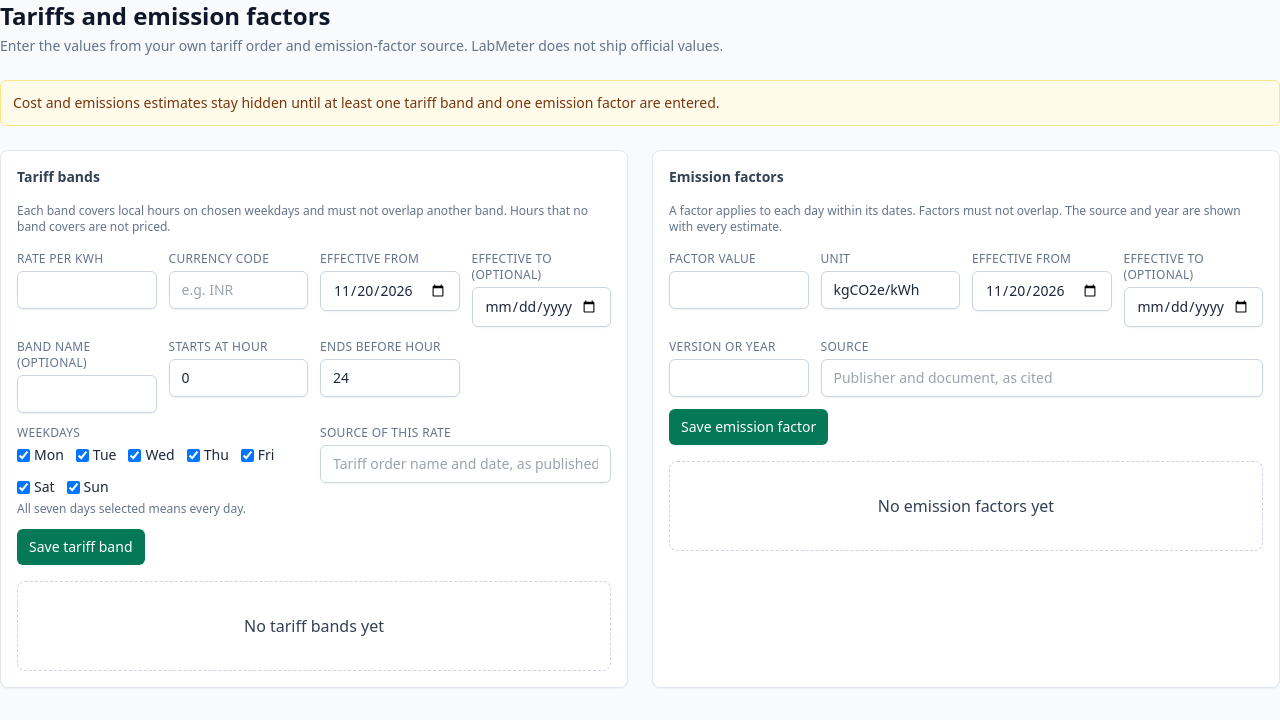
Test: Tariffs and factors page › shows the overlap refusal from the server
In the number field labelled "Rate per kWh": point(87, 290) [17,271,156,309], type "12"
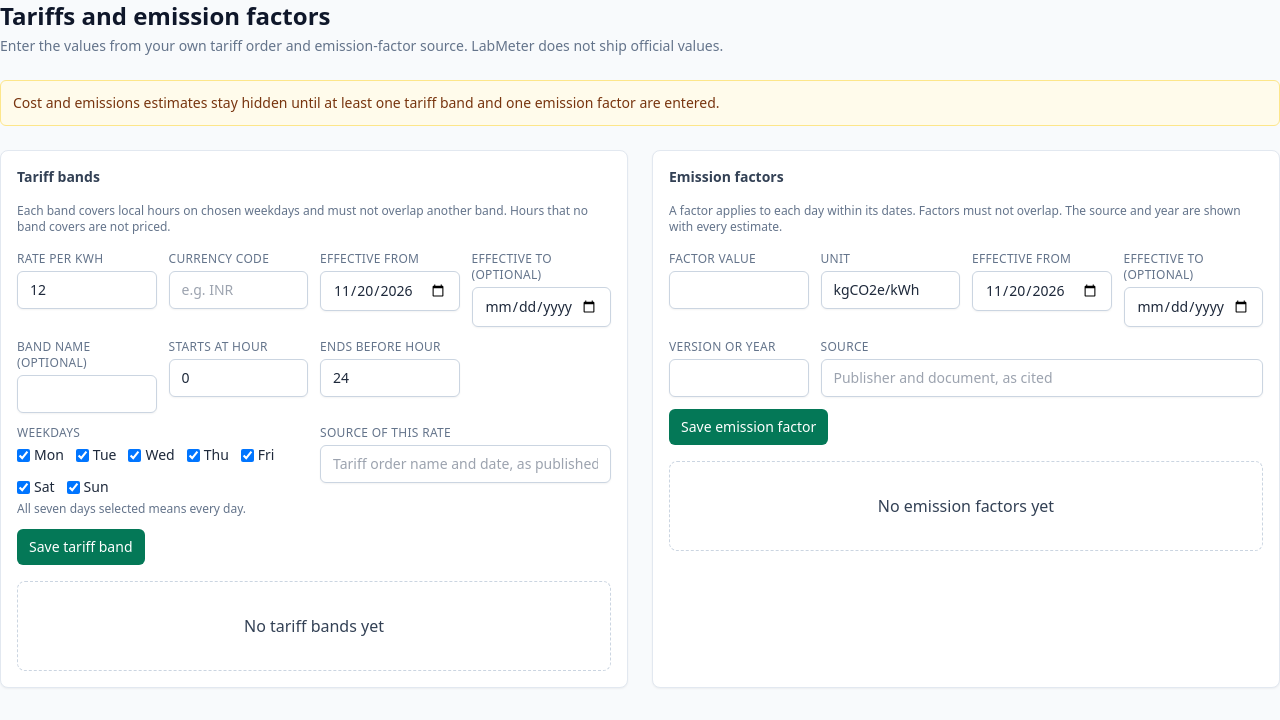
In the field labelled "Currency code": point(238, 290) [168,271,308,309], type "INR"
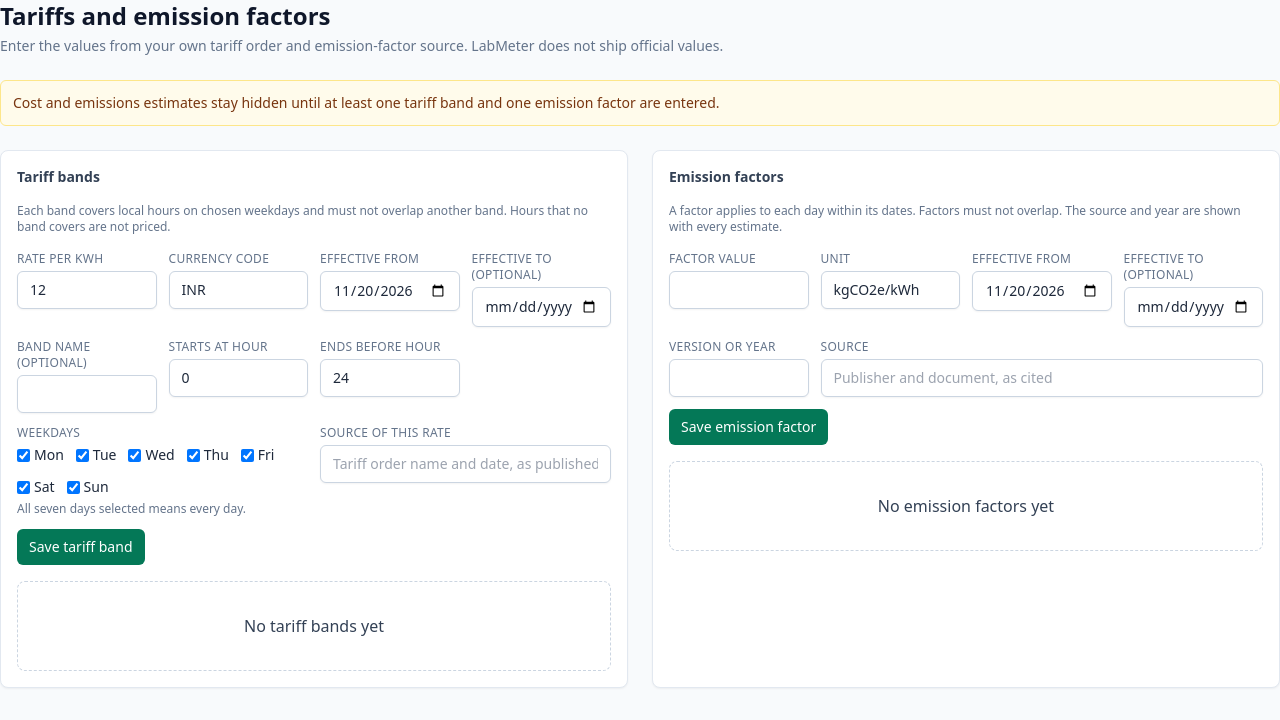
In the field labelled "Source of this rate": point(466, 464) [320,445,611,483], type "Tariff order, 1 April 2026"
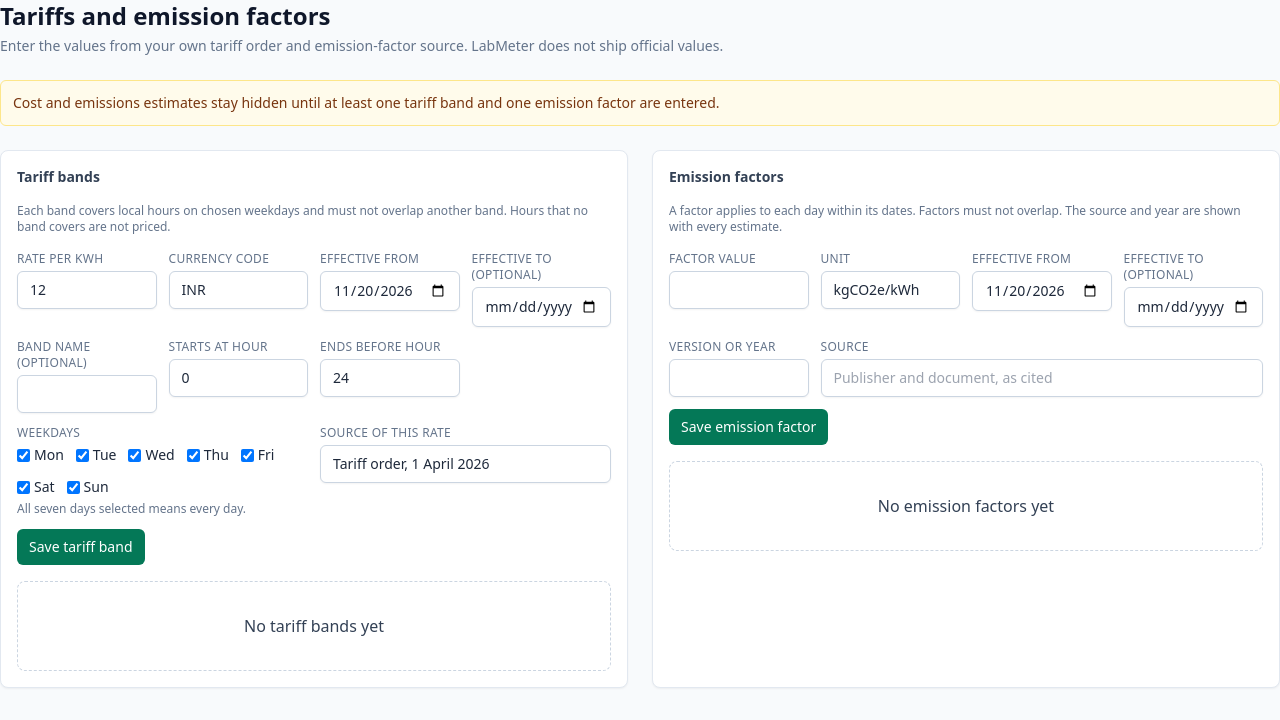
Click the button "Save tariff band": point(81, 547) [17,529,144,565]
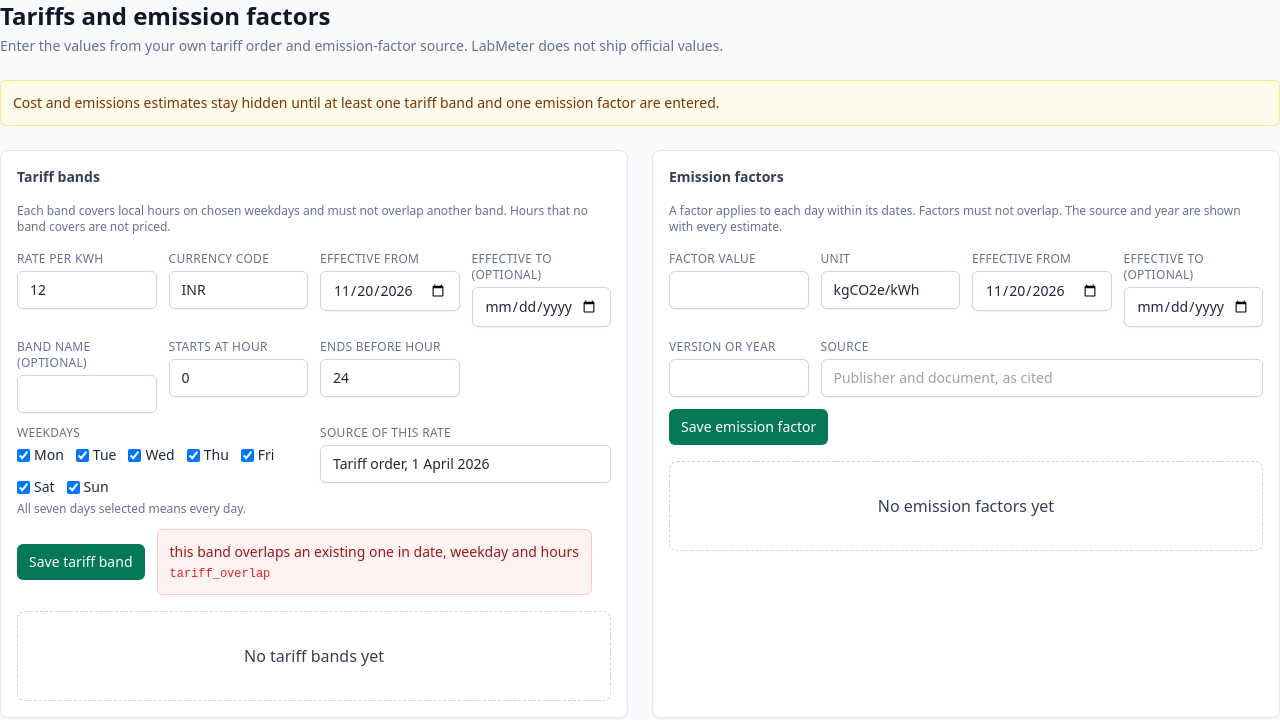
Check: the message shows "overlaps an existing one", box [170,542,579,561]
